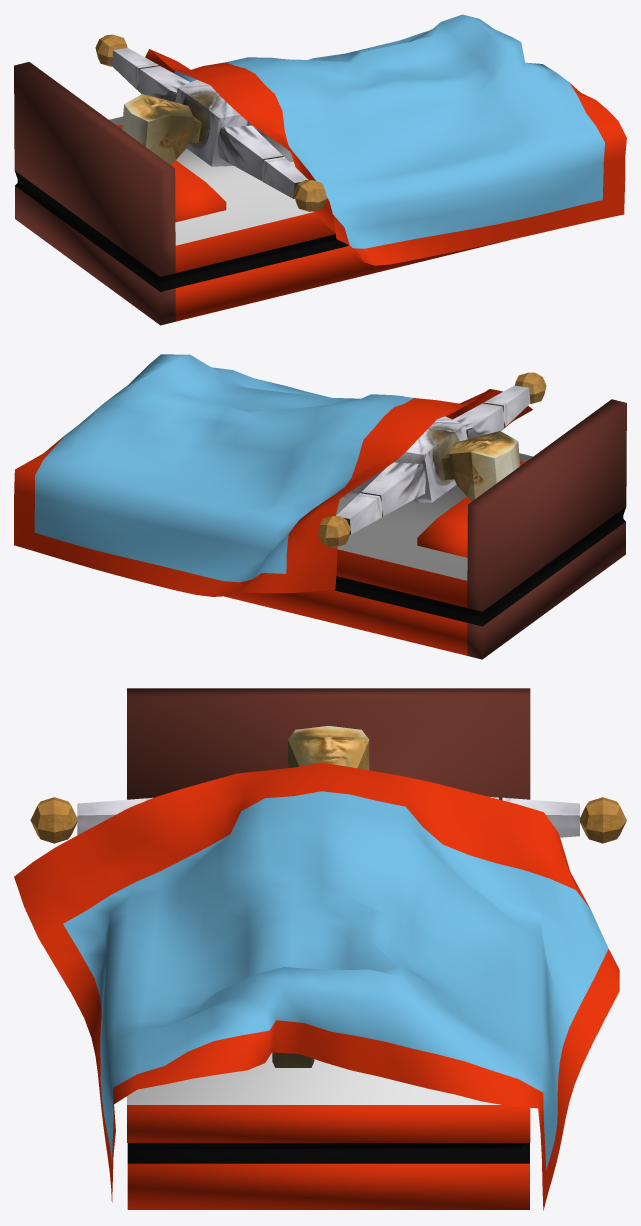
The model's file is BED.fbx.
The picture shows the model from 3 angles, top to bottom: view 1: azimuth 30°, elevation 25°; view 2: azimuth 150°, elevation 25°; view 3: azimuth 270°, elevation 25°; orthographic projection. The views are drawn at different scales.
Visible parts, largest first — view 1: Plane, Cube, Cube.003; view 2: Plane, Cube, Cube.003; view 3: Plane, Cube, Cube.003.
Boxes of the visible parts, left/top/right/bottom form: Plane: left=145, top=14, right=626, bottom=265; Cube: left=14, top=62, right=509, bottom=325; Cube.003: left=95, top=34, right=326, bottom=211; Plane: left=14, top=354, right=532, bottom=596; Cube: left=224, top=399, right=626, bottom=659; Cube.003: left=317, top=372, right=546, bottom=547; Plane: left=14, top=762, right=619, bottom=1210; Cube: left=127, top=688, right=530, bottom=1209; Cube.003: left=30, top=726, right=626, bottom=1067.
Size of the model in its own units: 212 by 172 by 69.29.
